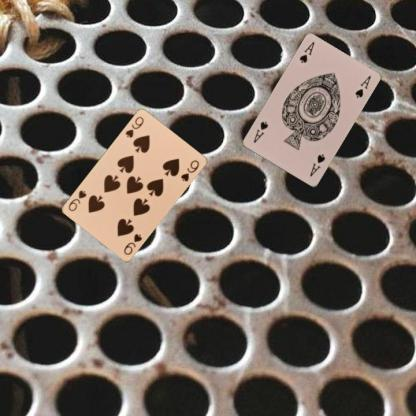9s: (121, 231, 144, 257), (123, 115, 145, 140)
As: (297, 39, 316, 65), (308, 151, 326, 178)
